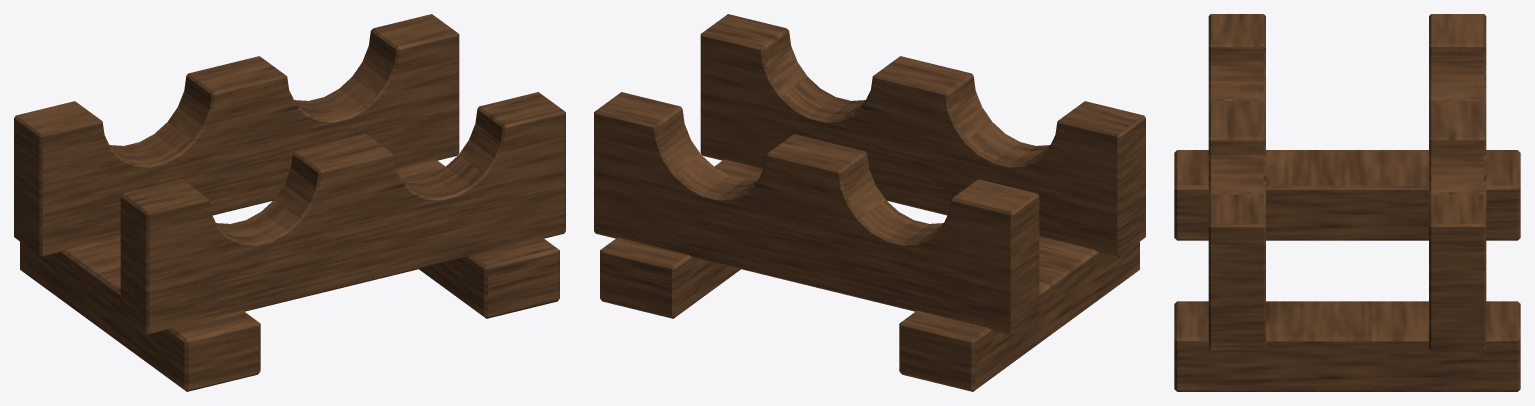
The model's file is ThreeFingerRest_LOD1.fbx.
The picture shows the model from 3 angles, left to right: view 1: azimuth 30°, elevation 25°; view 2: azimuth 150°, elevation 25°; view 3: azimuth 270°, elevation 25°; orthographic projection. The views are drawn at different scales.
Parts seen in each view (by area): view 1: ThreeFingerRest_LOD1; view 2: ThreeFingerRest_LOD1; view 3: ThreeFingerRest_LOD1.
Part boxes in pixels (x1=…): ThreeFingerRest_LOD1: x1=14, y1=14, x2=565, y2=391; ThreeFingerRest_LOD1: x1=594, y1=14, x2=1145, y2=391; ThreeFingerRest_LOD1: x1=1174, y1=14, x2=1520, y2=391.
Bounding box in the file's own units: 0.314 × 0.124 × 0.217.
